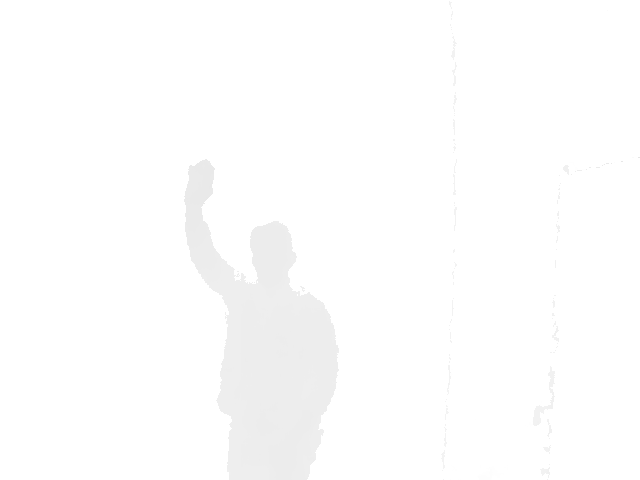hand: (183, 158, 216, 208)
head: (249, 221, 297, 282)
person: (183, 158, 341, 479)
